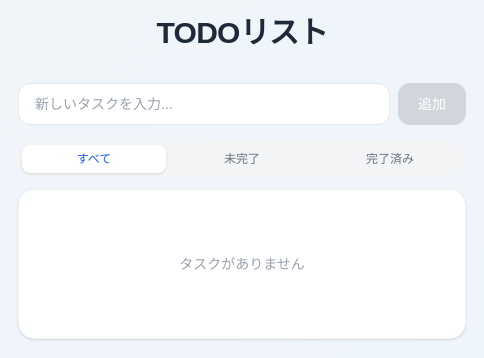
Test: TodoApp › TODO追加 › Enterキーを押すとTODOが追加される
Expected: the heading "TODOリスト" is shown, top-left (157, 16), bottom-right (328, 49)
Type "掃除をする" into the field with placeholder "新しいタスクを入力..." at (204, 104), box top-left (18, 83), bottom-right (390, 125)
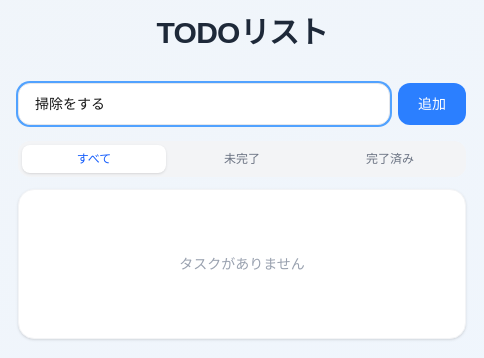
Press Enter
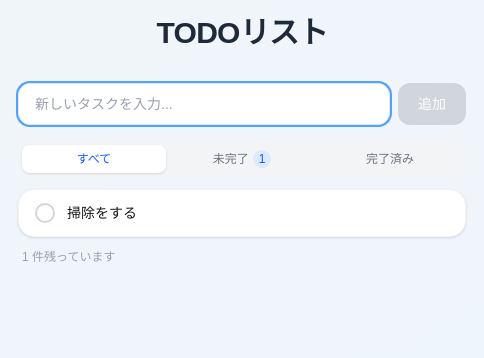
Expected: the text "掃除をする" is shown, top-left (67, 205), bottom-right (137, 221)
